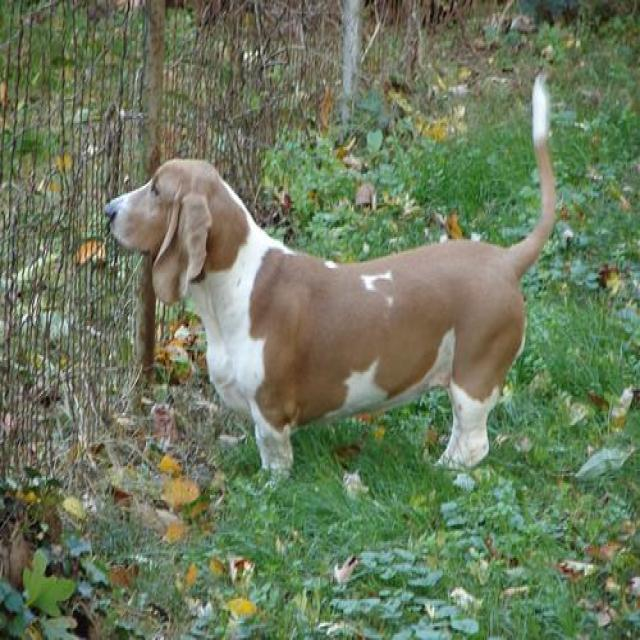basset: (98, 72, 562, 481)
